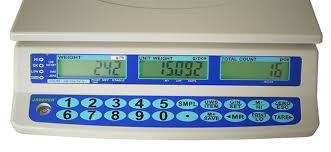Industrial Scale: (9, 1, 324, 138)
